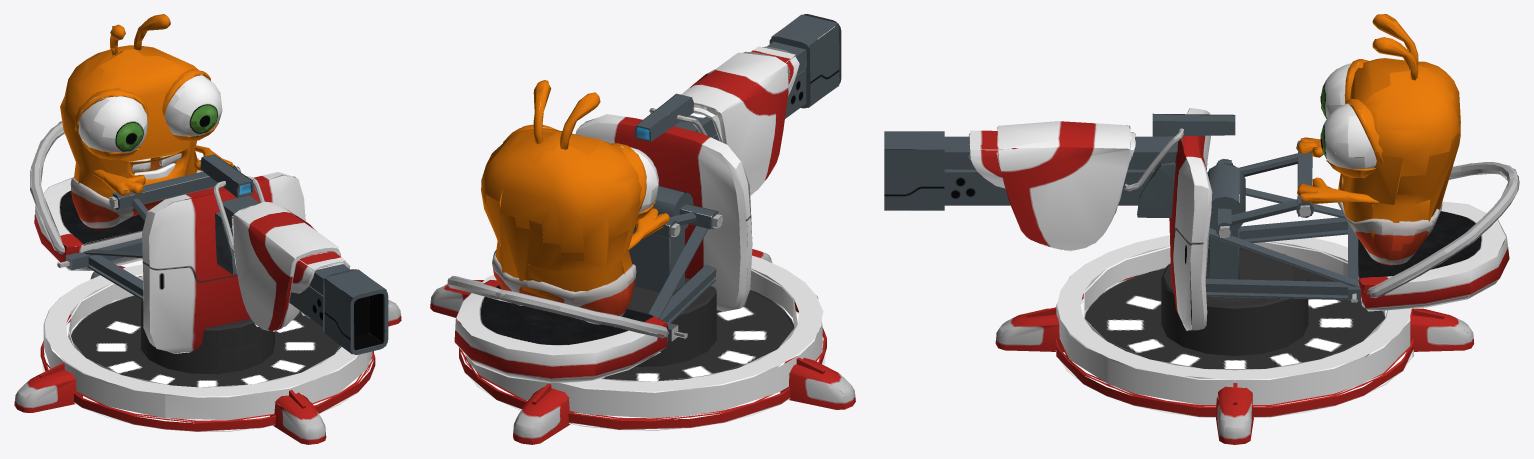
Rendered from cannon_blast.glb.
The picture shows the model from 3 angles, left to right: view 1: azimuth 30°, elevation 25°; view 2: azimuth 150°, elevation 25°; view 3: azimuth 270°, elevation 25°; orthographic projection. The views are drawn at different scales.
Visible parts, largest first — view 1: Top_Part.001_5, Bottom_Part_3, Object_17, Object_16, Mid_Part_4; view 2: Top_Part.001_5, Bottom_Part_3, Object_17, Object_16, Mid_Part_4; view 3: Top_Part.001_5, Bottom_Part_3, Object_17, Mid_Part_4, Object_16.
Part boxes in pixels (x1,y1,x2,y2): Top_Part.001_5: (30,121,388,354); Bottom_Part_3: (14,264,401,444); Object_17: (60,14,233,199); Object_16: (70,74,222,228); Mid_Part_4: (141,300,274,374); Top_Part.001_5: (447,14,841,382); Bottom_Part_3: (430,249,855,444); Object_17: (481,80,669,303); Object_16: (492,127,658,324); Mid_Part_4: (627,278,716,366); Top_Part.001_5: (884,108,1519,330); Bottom_Part_3: (995,235,1474,444); Object_17: (1297,14,1460,243); Mid_Part_4: (1161,246,1308,355); Object_16: (1320,62,1442,265).
Bounding box in the file's own units: 4.33 × 3.18 × 5.75.
Materials: 4 (3 with a texture image).
